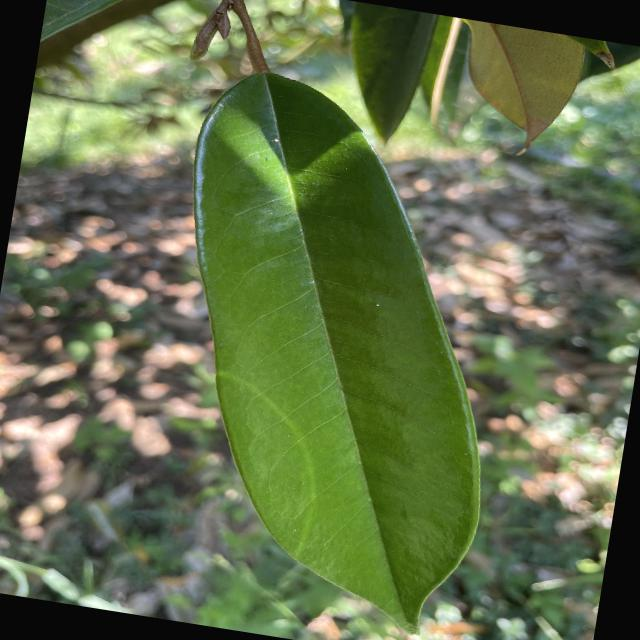No Disease: (119, 54, 559, 639)
